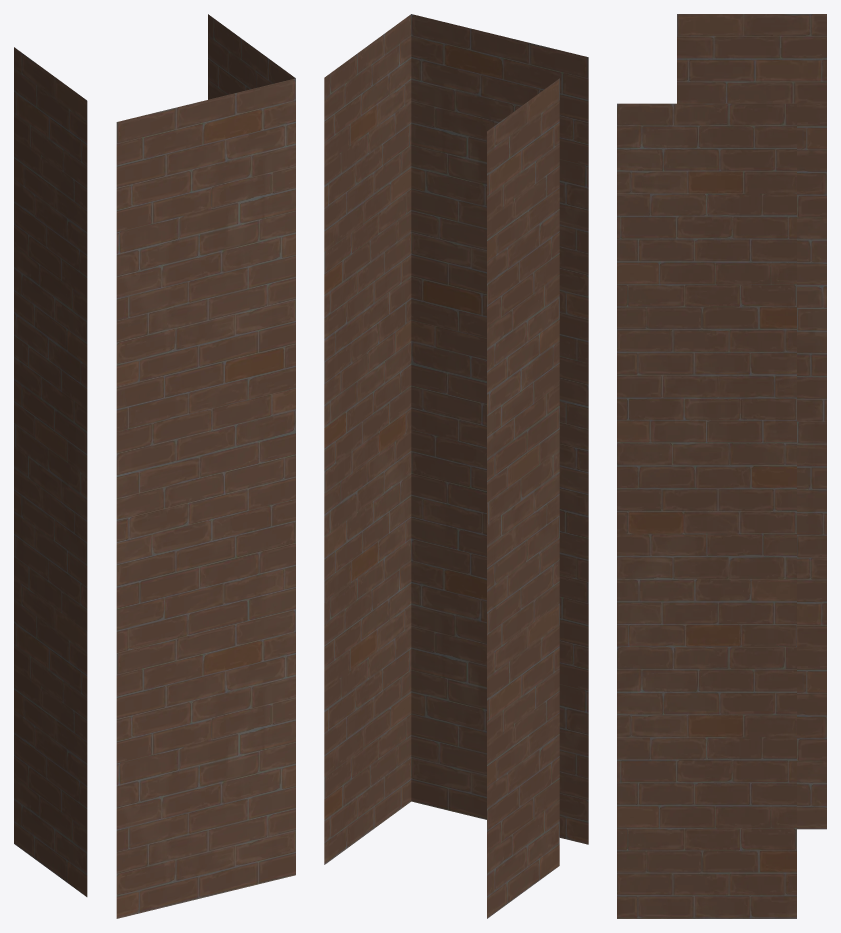
File: Brick_90Angle_L.glb
3 views of the same model, side by side, from view 1: azimuth 30°, elevation 25°; view 2: azimuth 150°, elevation 25°; view 3: azimuth 270°, elevation 25° (orthographic). The views are drawn at different scales.
Parts seen in each view (by area): view 1: Brick_90Angle_L; view 2: Brick_90Angle_L; view 3: Brick_90Angle_L.
Boxes of the visible parts, left/top/right/bottom form: Brick_90Angle_L: left=14, top=14, right=295, bottom=918; Brick_90Angle_L: left=324, top=14, right=588, bottom=918; Brick_90Angle_L: left=617, top=14, right=826, bottom=918.
Bounding box in the file's own units: 0.7063 × 3 × 0.7001.
Materials: 1 (1 with a texture image).
